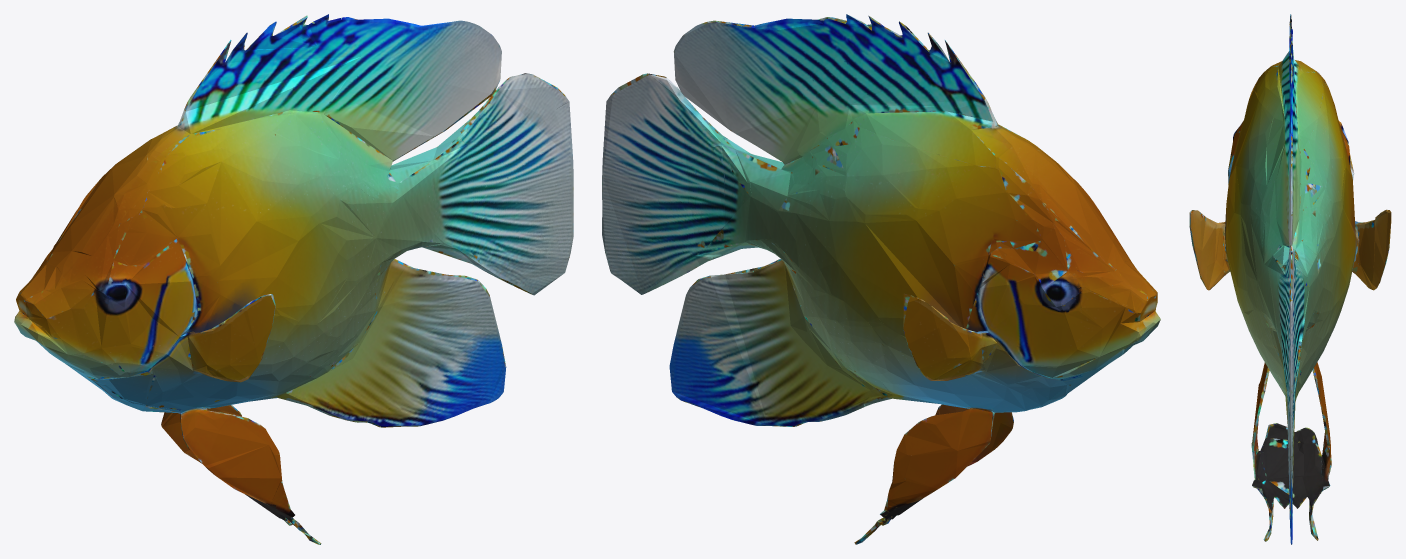
Rendered from fish_0086_smpl23_resized.glb.
The picture shows the model from 3 angles, left to right: view 1: azimuth 30°, elevation 25°; view 2: azimuth 150°, elevation 25°; view 3: azimuth 270°, elevation 25°; orthographic projection. The views are drawn at different scales.
Parts seen in each view (by area): view 1: world; view 2: world; view 3: world.
Part boxes in pixels (x1=…): world: x1=14, y1=14, x2=573, y2=544; world: x1=602, y1=14, x2=1160, y2=544; world: x1=1189, y1=14, x2=1391, y2=544.
Bounding box in the file's own units: 1.99 × 1.78 × 0.6547.
Materials: 1 (1 with a texture image).
